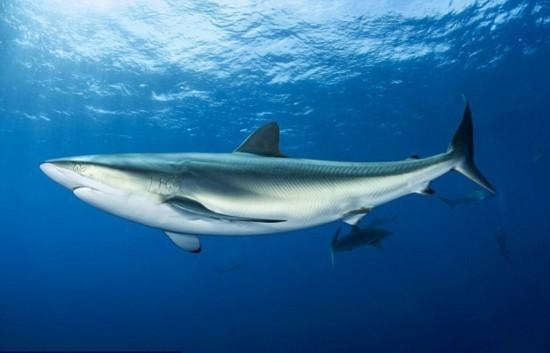fish: (37, 89, 491, 254)
